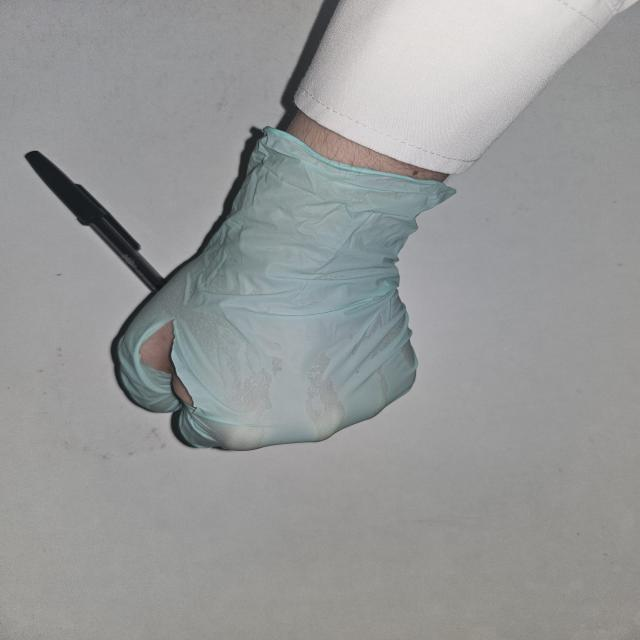gloves_damaged: (104, 119, 463, 454)
